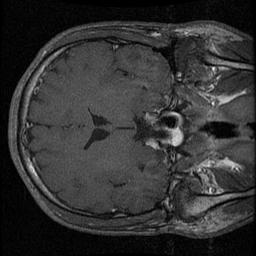pituitary tumour: (142, 108, 185, 149)
